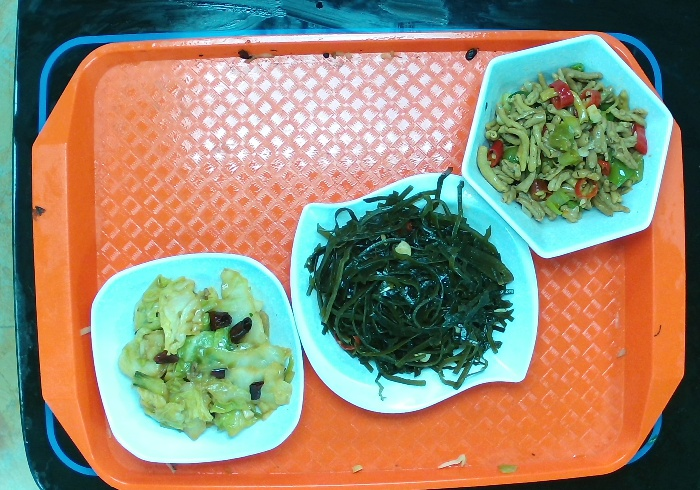RJxy-Liu_Jiao_Wan: (458, 32, 674, 260)
RJxy-Shuang_Jiao_Pan: (286, 167, 543, 416)
RJxy-Si_Fang_Wan: (90, 245, 303, 466)
